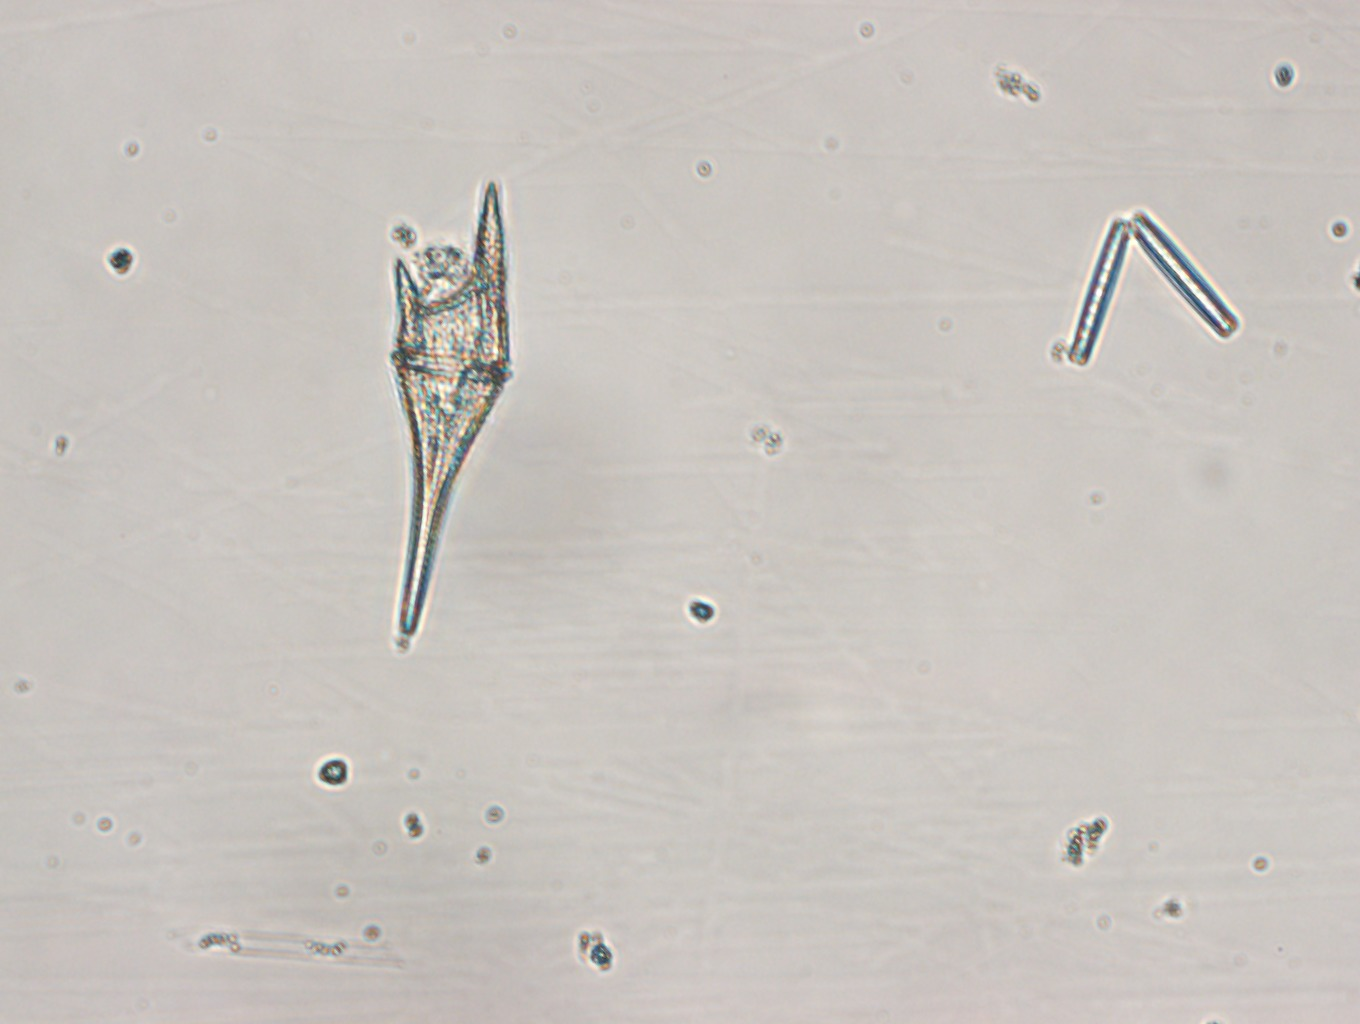ceratium furca: (369, 185, 528, 648)
thalassionema nitzschioides: (1061, 202, 1249, 368)
